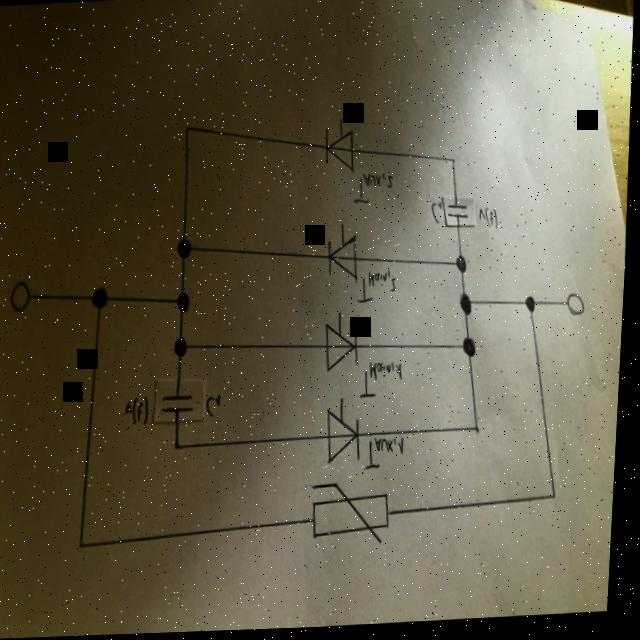capacitor: (163, 394, 200, 418), (448, 206, 471, 224)
junction: (93, 286, 112, 312), (460, 296, 476, 321), (175, 338, 192, 360), (178, 239, 195, 261), (178, 292, 193, 316), (466, 341, 480, 362), (457, 258, 470, 278), (527, 300, 538, 318), (177, 443, 186, 455), (478, 427, 485, 440), (184, 125, 193, 134), (82, 541, 90, 551), (556, 496, 562, 506), (451, 160, 458, 168)
terminal: (11, 279, 39, 316), (568, 298, 588, 322)
text: (362, 363, 408, 403), (358, 271, 400, 309), (367, 440, 411, 475), (354, 174, 396, 209), (125, 396, 153, 429), (478, 211, 501, 235), (209, 394, 226, 421), (432, 206, 445, 228)
thyristor: (326, 407, 368, 469), (325, 322, 364, 378), (325, 234, 363, 289), (322, 125, 359, 181)
